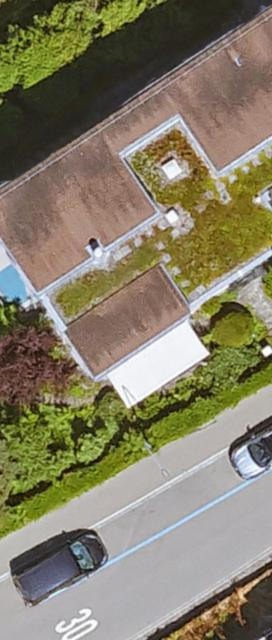tree: (1, 306, 74, 407), (1, 409, 78, 490)
